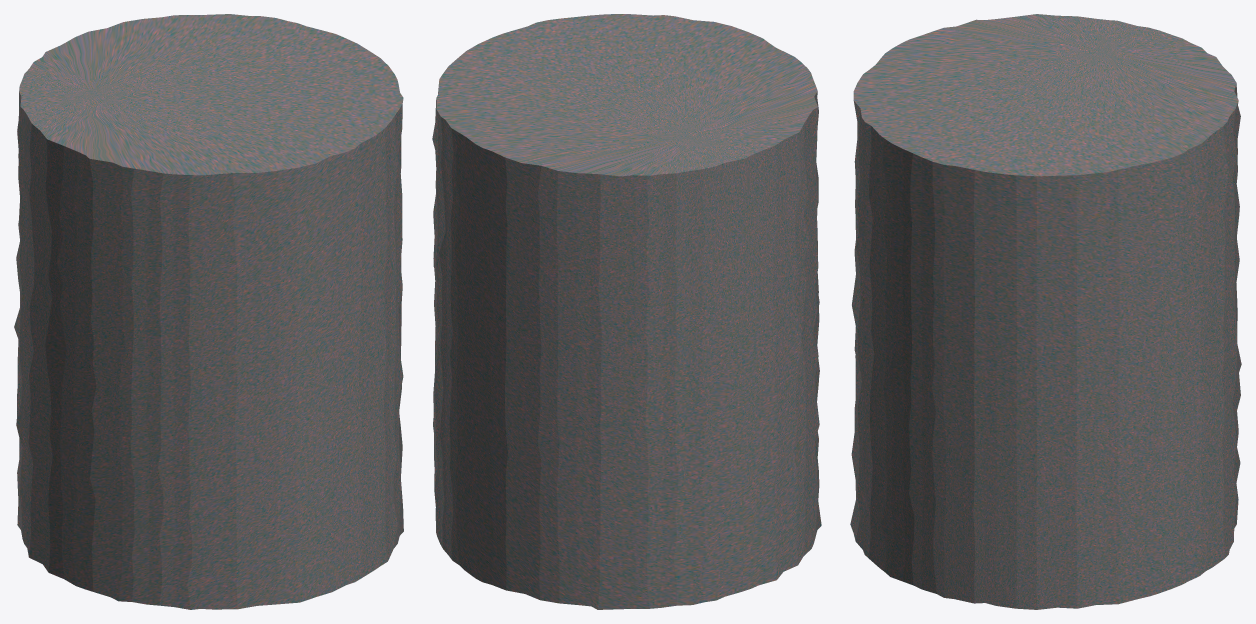
The model's file is barrel_50.dae.
3 renders of one model, left to right at view 1: azimuth 30°, elevation 25°; view 2: azimuth 150°, elevation 25°; view 3: azimuth 270°, elevation 25°, orthographic.
Parts seen in each view (by area): view 1: Cylinder; view 2: Cylinder; view 3: Cylinder.
Boxes of the visible parts, x1,y1,x2,y2 form: Cylinder: (14,14,403,609); Cylinder: (432,14,821,609); Cylinder: (850,14,1241,609).
Size of the model in its own units: 0.8185 by 0.8194 by 1.
1 material, 1 textured.
